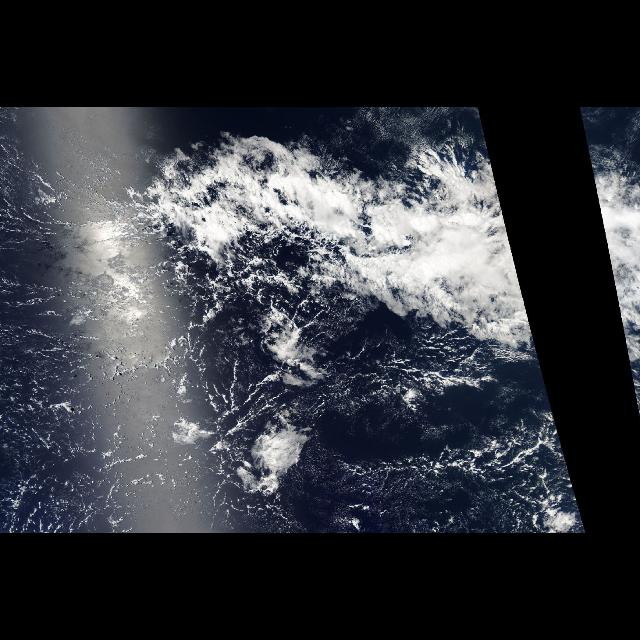Fish: (328, 411, 564, 495)
Gravel: (2, 143, 178, 533), (187, 363, 587, 533)
Sugar: (1, 276, 212, 530), (324, 389, 512, 533), (2, 110, 140, 254)
